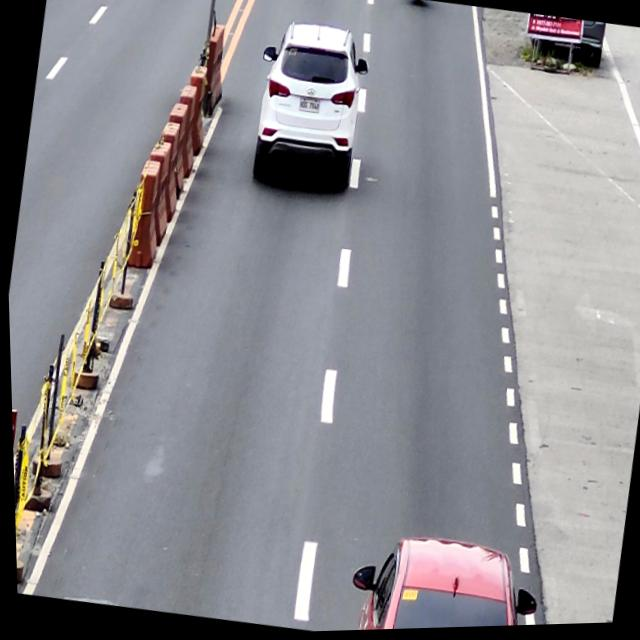Car: (243, 18, 375, 196), (340, 526, 542, 632)
License-Plate: (297, 100, 321, 117)
